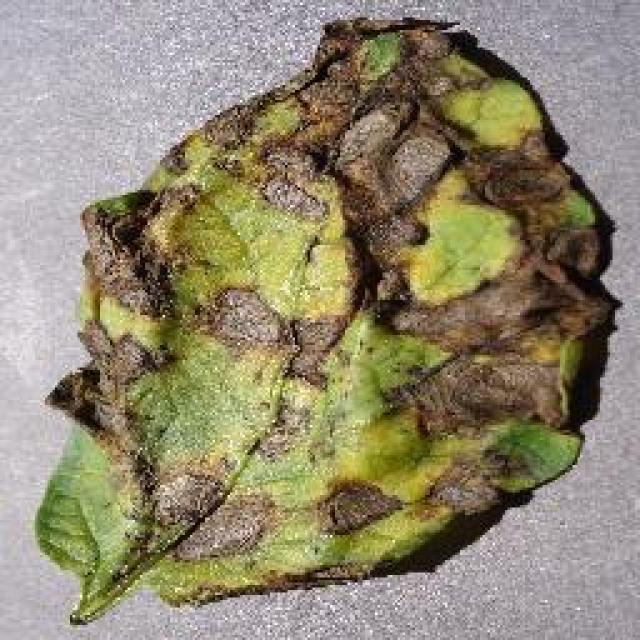early_blight: (30, 13, 622, 625)
